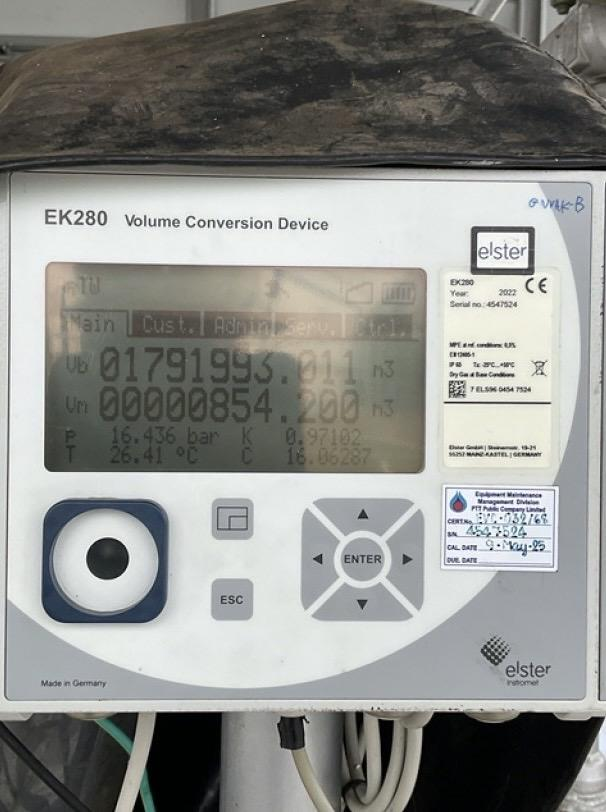digital_screen: (45, 264, 425, 472)
